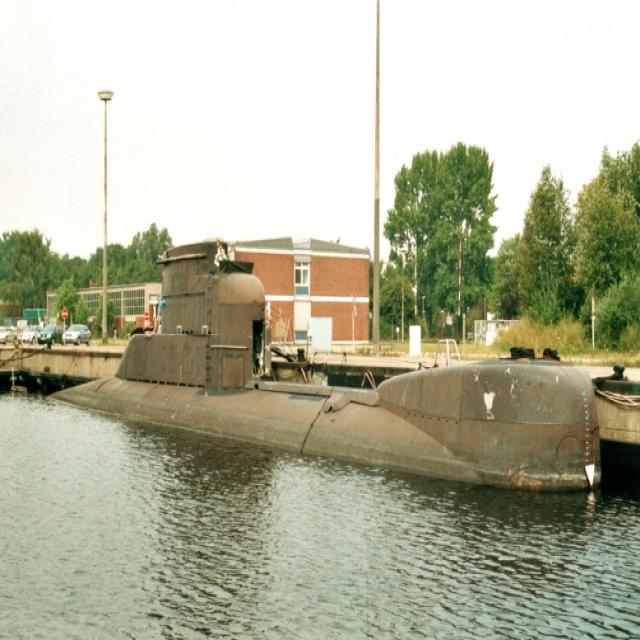submarine: (48, 236, 606, 485)
